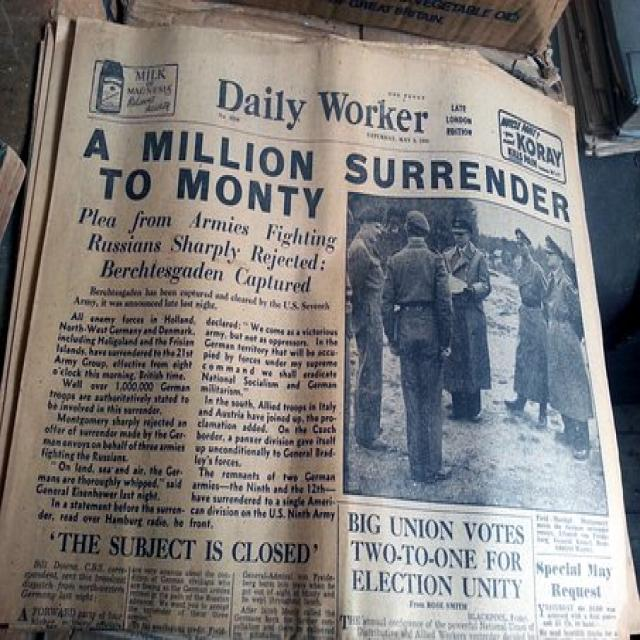newspaper: (4, 20, 632, 640)
